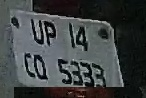1: (66, 21, 76, 48)
3: (70, 59, 84, 87), (81, 60, 94, 88), (92, 64, 107, 88)
4: (76, 25, 89, 54)
5: (56, 57, 72, 86)
C: (21, 49, 35, 81)
P: (43, 19, 58, 51)
Q: (34, 52, 51, 83)
U: (28, 17, 45, 48)
